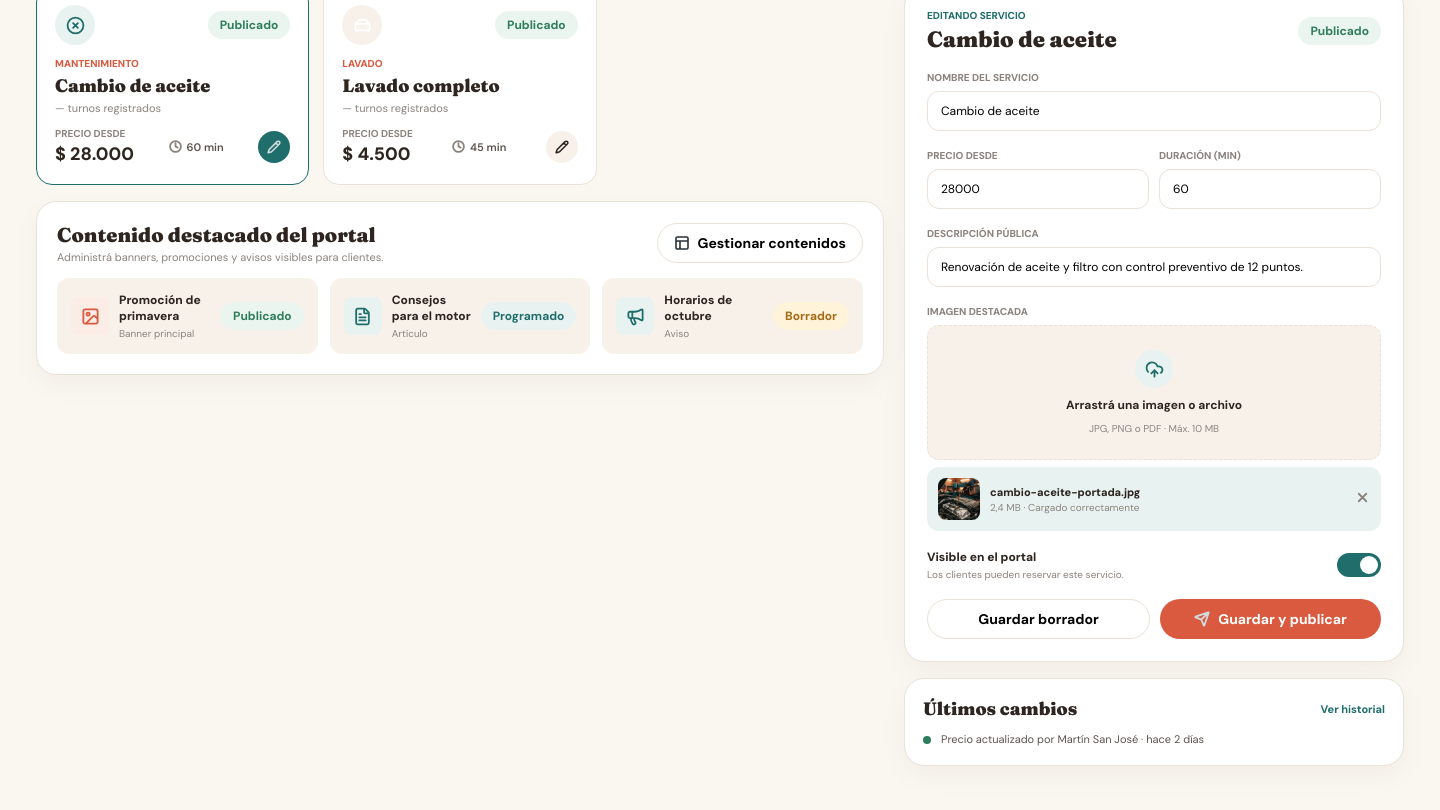
Scenario: Dashboard, turnos y servicios › servicios publica un servicio
The width and height of the screenshot is (1440, 810).
(page scrolled)
Click the button "Guardar y publicar" at (1270, 619), box [1160, 599, 1381, 639]
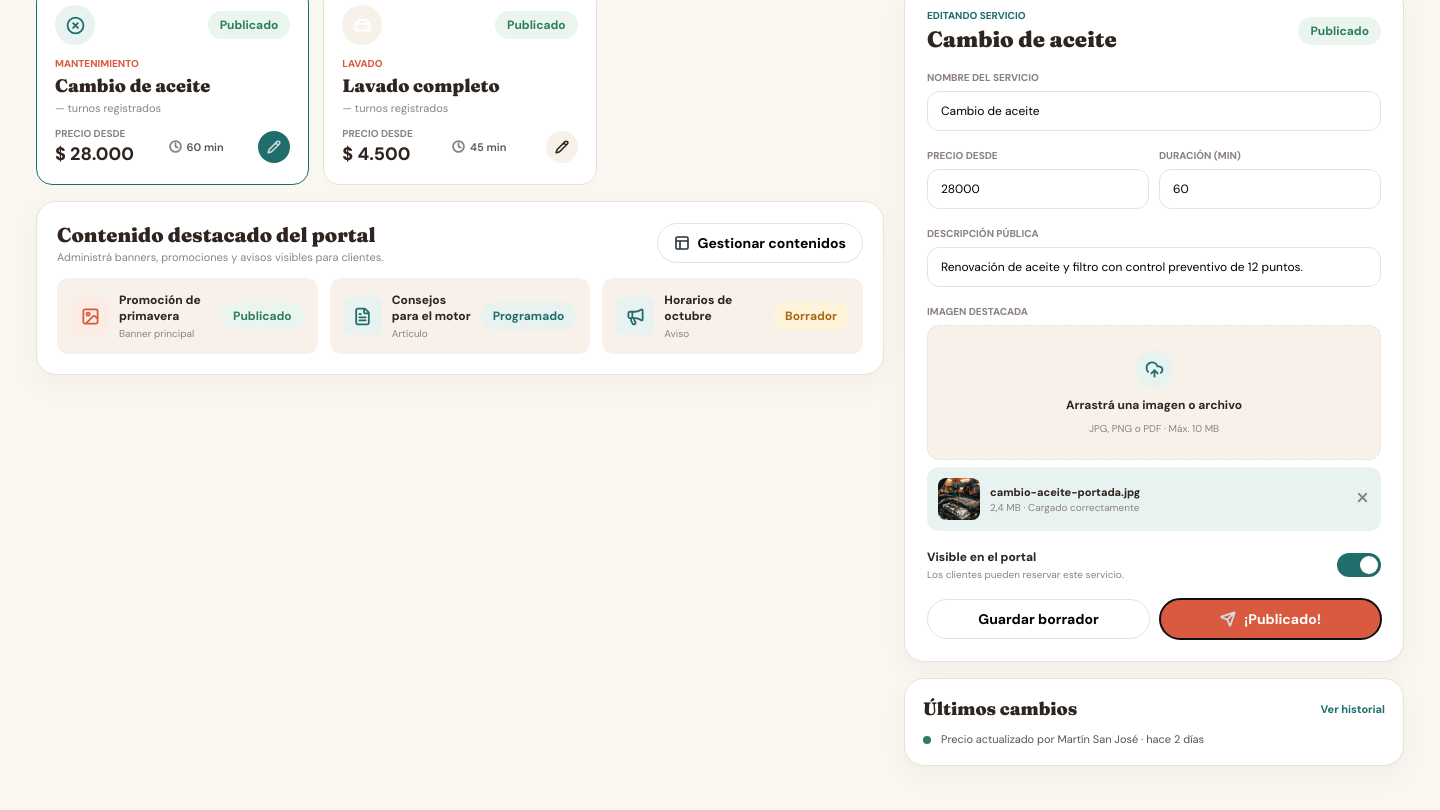
Check: the button "¡Publicado!" is shown, box [1160, 599, 1381, 639]
